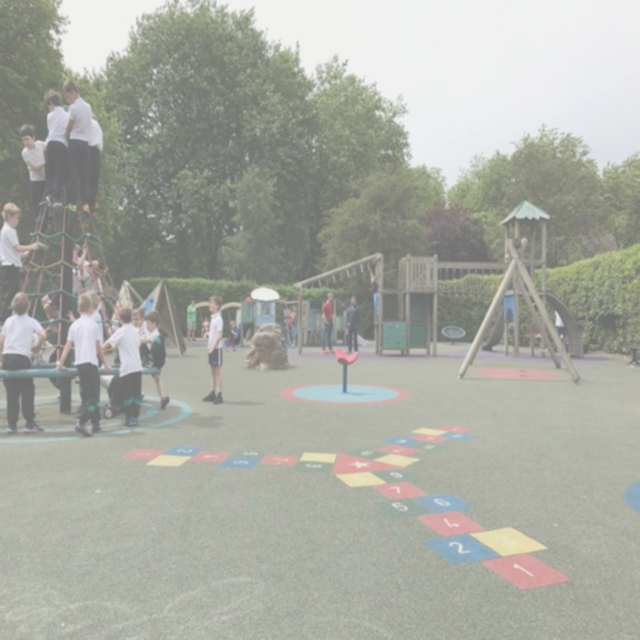pessoa: (57, 292, 111, 438), (0, 290, 47, 434), (95, 303, 144, 426), (40, 242, 102, 336), (0, 200, 40, 329), (65, 288, 104, 418), (60, 78, 94, 215), (74, 362, 146, 420), (19, 122, 50, 252), (42, 86, 73, 213), (132, 308, 170, 410), (103, 304, 141, 404), (28, 331, 66, 398), (202, 294, 224, 406), (77, 260, 106, 338), (138, 308, 168, 371), (88, 111, 104, 218), (321, 291, 336, 354), (346, 295, 361, 354), (552, 310, 568, 352), (370, 268, 380, 321), (283, 302, 294, 348), (186, 300, 198, 342), (225, 320, 238, 352), (284, 310, 297, 330), (312, 308, 322, 329), (201, 316, 210, 338), (245, 292, 255, 309), (61, 103, 70, 114), (10, 308, 18, 316), (292, 310, 297, 317)
